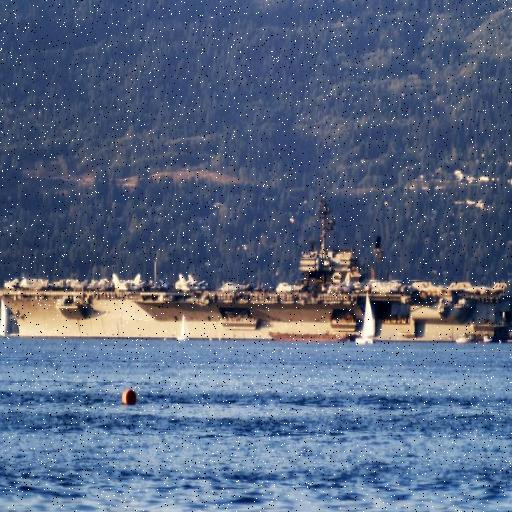Portanaves: (1, 193, 512, 344)
